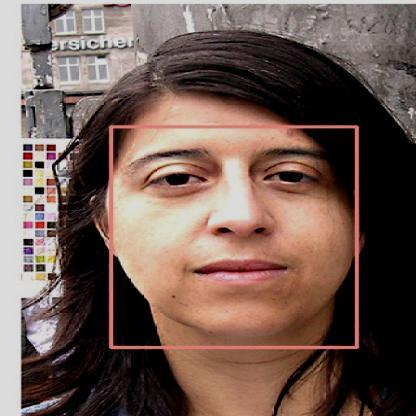without_mask: (111, 126, 356, 347)
